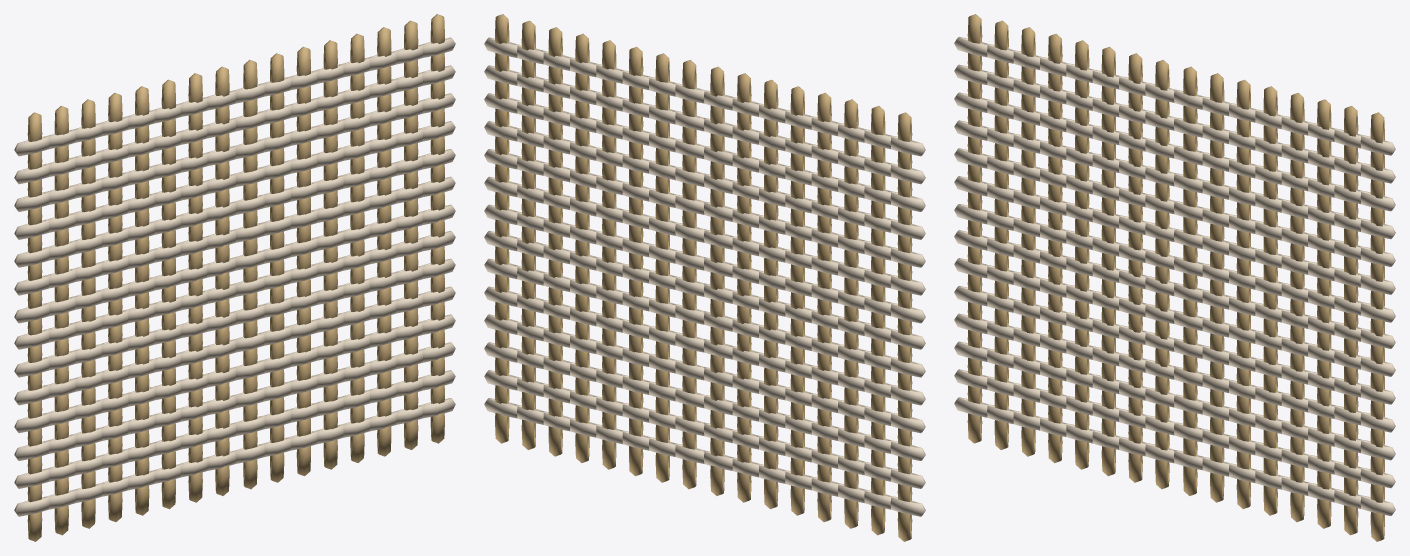
Rendered from weave.fbx.
3 renders of one model, left to right at view 1: azimuth 30°, elevation 25°; view 2: azimuth 150°, elevation 25°; view 3: azimuth 330°, elevation 25°, orthographic.
Visible parts, largest first — view 1: Torus32, Torus01, Torus10, Torus39, Torus11, Torus12, Torus40, Torus41, Torus42, Torus43, Torus14, Torus13 (+48 smaller); view 2: Torus32, Torus39, Torus01, Torus10, Torus12, Torus11, Torus40, Torus41, Torus42, Torus13, Torus43, Torus14 (+48 smaller); view 3: Torus30, Torus24, Torus33, Torus44, Torus38, Torus26, Torus37, Torus36, Torus25, Torus35, Torus27, Torus10 (+48 smaller).
Part boxes in pixels (bbox=[...]): Torus32: bbox=[14, 450, 236, 516]; Torus01: bbox=[14, 257, 236, 323]; Torus10: bbox=[14, 229, 235, 295]; Torus39: bbox=[14, 423, 235, 488]; Torus11: bbox=[14, 201, 236, 267]; Torus12: bbox=[14, 173, 235, 239]; Torus40: bbox=[14, 395, 235, 460]; Torus41: bbox=[14, 367, 236, 433]; Torus42: bbox=[14, 339, 236, 405]; Torus43: bbox=[14, 311, 236, 377]; Torus14: bbox=[14, 118, 236, 184]; Torus13: bbox=[14, 146, 235, 211]; Torus32: bbox=[703, 450, 925, 516]; Torus39: bbox=[703, 422, 925, 488]; Torus01: bbox=[703, 257, 925, 323]; Torus10: bbox=[704, 229, 925, 295]; Torus12: bbox=[703, 173, 925, 239]; Torus11: bbox=[703, 202, 925, 267]; Torus40: bbox=[704, 395, 925, 460]; Torus41: bbox=[703, 367, 925, 433]; Torus42: bbox=[703, 339, 925, 405]; Torus13: bbox=[703, 146, 925, 211]; Torus43: bbox=[703, 311, 925, 377]; Torus14: bbox=[703, 118, 925, 184]; Torus30: bbox=[1173, 256, 1395, 322]; Torus24: bbox=[1174, 228, 1395, 294]; Torus33: bbox=[1173, 450, 1395, 515]; Torus44: bbox=[1174, 422, 1395, 488]; Torus38: bbox=[1174, 394, 1395, 460]; Torus26: bbox=[1174, 173, 1395, 239]; Torus37: bbox=[1173, 366, 1395, 432]; Torus36: bbox=[1173, 338, 1395, 404]; Torus25: bbox=[1173, 201, 1395, 266]; Torus35: bbox=[1173, 310, 1395, 376]; Torus27: bbox=[1174, 145, 1395, 211]; Torus10: bbox=[954, 176, 1175, 241].
Bounding box in the file's own units: 10000 × 9304 × 129.
